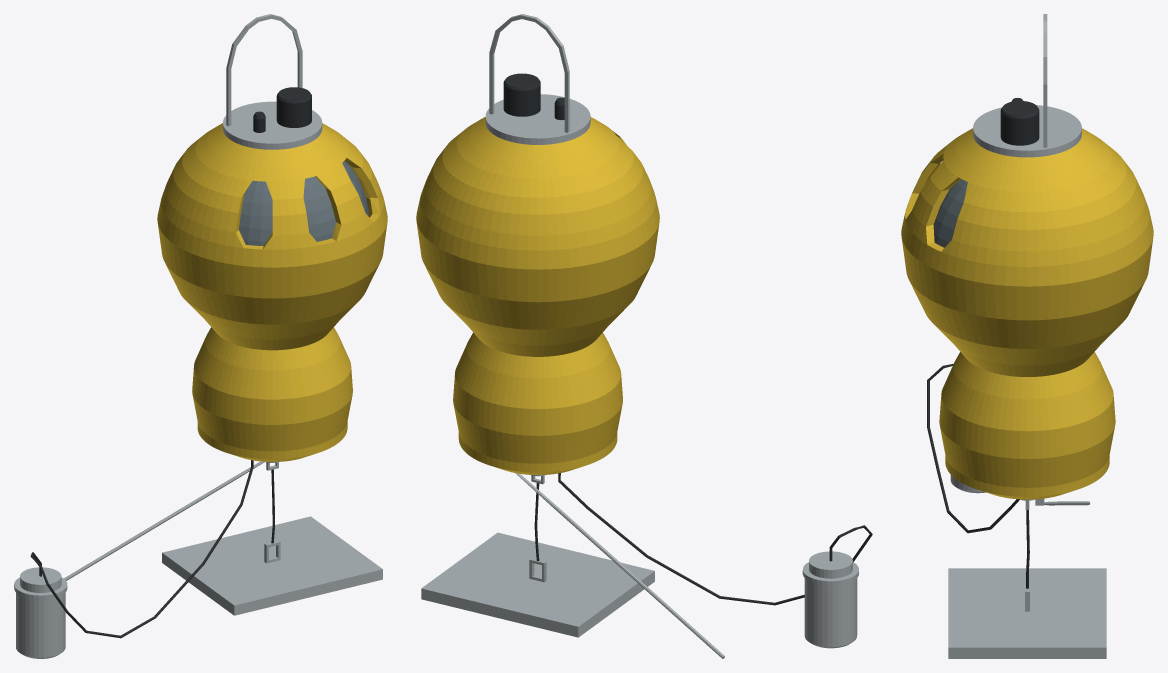
The picture shows the model from 3 angles, left to right: view 1: azimuth 30°, elevation 25°; view 2: azimuth 150°, elevation 25°; view 3: azimuth 270°, elevation 25°; orthographic projection. The views are drawn at different scales.
Parts seen in each view (by area): view 1: 01_hollow_two_bulge_cover_three_real_windows, 08_seafloor_anchor_plate, 15_separate_grounded_geophone, 02_17inch_electronics_sphere_hidden_flat_bearing, 04_top_instrument_plate, 05_acoustic_recovery_transducer, 07_lifting_bail, 16_loose_signal_cable, 14_lowered_deployment_arm; view 2: 01_hollow_two_bulge_cover_three_real_windows, 08_seafloor_anchor_plate, 15_separate_grounded_geophone, 04_top_instrument_plate, 05_acoustic_recovery_transducer, 07_lifting_bail, 16_loose_signal_cable, 14_lowered_deployment_arm; view 3: 01_hollow_two_bulge_cover_three_real_windows, 08_seafloor_anchor_plate, 04_top_instrument_plate, 05_acoustic_recovery_transducer, 02_17inch_electronics_sphere_hidden_flat_bearing, 16_loose_signal_cable, 07_lifting_bail.
Boxes of the visible parts, x1,y1,x2,y2 form: 01_hollow_two_bulge_cover_three_real_windows: [157, 123, 387, 461]; 08_seafloor_anchor_plate: [162, 516, 382, 615]; 15_separate_grounded_geophone: [14, 567, 67, 658]; 02_17inch_electronics_sphere_hidden_flat_bearing: [238, 161, 368, 245]; 04_top_instrument_plate: [223, 101, 322, 149]; 05_acoustic_recovery_transducer: [276, 87, 311, 127]; 07_lifting_bail: [226, 14, 302, 126]; 16_loose_signal_cable: [30, 460, 253, 638]; 14_lowered_deployment_arm: [64, 461, 264, 580]; 01_hollow_two_bulge_cover_three_real_windows: [416, 117, 659, 474]; 08_seafloor_anchor_plate: [421, 532, 654, 637]; 15_separate_grounded_geophone: [802, 551, 858, 648]; 04_top_instrument_plate: [485, 94, 590, 144]; 05_acoustic_recovery_transducer: [503, 73, 540, 116]; 07_lifting_bail: [489, 14, 569, 132]; 16_loose_signal_cable: [558, 473, 872, 605]; 14_lowered_deployment_arm: [515, 473, 724, 658]; 01_hollow_two_bulge_cover_three_real_windows: [901, 128, 1153, 499]; 08_seafloor_anchor_plate: [948, 568, 1106, 658]; 04_top_instrument_plate: [973, 105, 1081, 157]; 05_acoustic_recovery_transducer: [1000, 101, 1039, 145]; 02_17inch_electronics_sphere_hidden_flat_bearing: [933, 179, 967, 247]; 16_loose_signal_cable: [927, 364, 1019, 533]; 07_lifting_bail: [1043, 14, 1047, 147].
Bounding box in the file's own units: 0.964 × 1.34 × 0.51.
